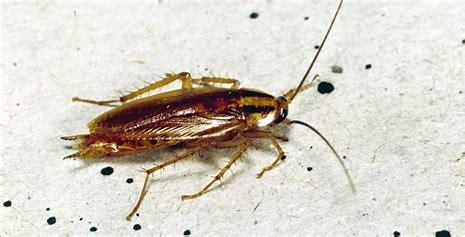cockroach: (62, 21, 400, 226)
